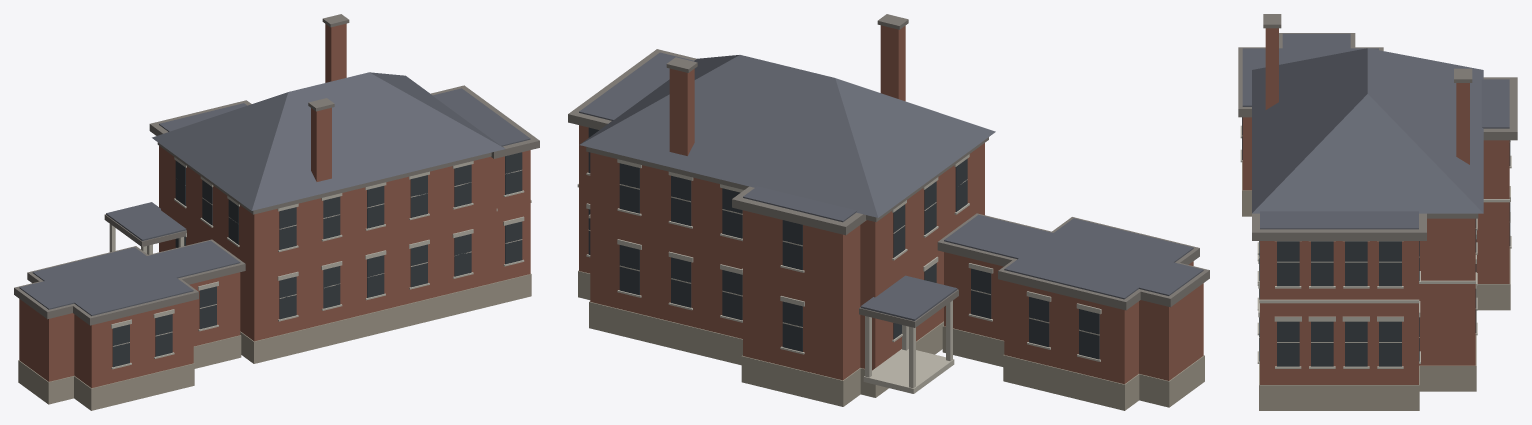
The model's file is house_2120_prairie__draft_1904.glb.
3 views of the same model, side by side, from view 1: azimuth 30°, elevation 25°; view 2: azimuth 150°, elevation 25°; view 3: azimuth 270°, elevation 25° (orthographic). The views are drawn at different scales.
Parts seen in each view (by area): view 1: house_2120_prairie__draft_1904; view 2: house_2120_prairie__draft_1904; view 3: house_2120_prairie__draft_1904.
Part boxes in pixels (box(x1,y1,x2,y2)): house_2120_prairie__draft_1904: box(14, 14, 539, 410); house_2120_prairie__draft_1904: box(568, 14, 1209, 410); house_2120_prairie__draft_1904: box(1238, 14, 1517, 410).
Bounding box in the file's own units: 28.3 × 13.42 × 12.3.
